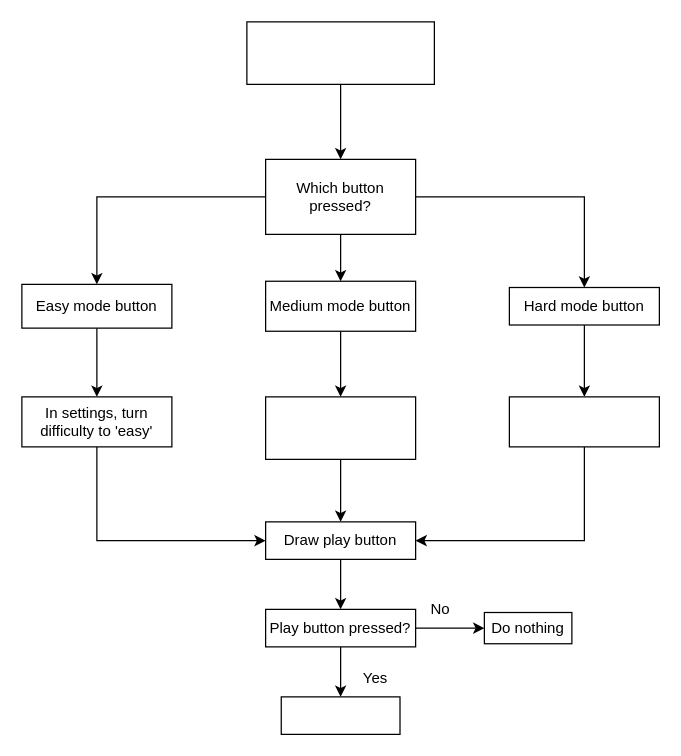
This 681x756 diagram has some shape labels left out. The shapes that lost their labels are listed below. From the top down, each one's box as (x1, y1, x2, y2) in pixels, then its label:
(246, 21, 434, 84): Initialize function of pressed button (difficulty, play, etc.)
(264, 396, 416, 459): Do nothing, default settings are for medium difficulty
(508, 396, 659, 447): In settings, turn difficulty to 'hard'
(280, 696, 400, 734): Start the game!
